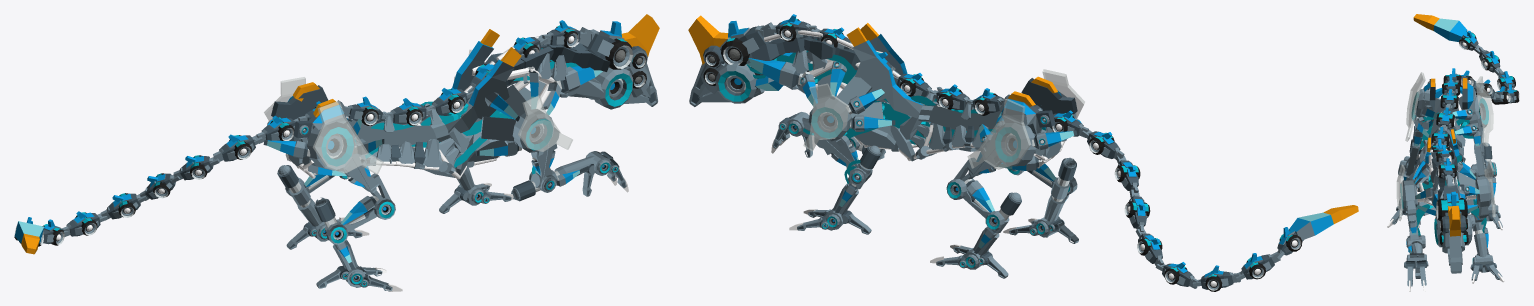
The model's file is MechQuadruped by 3Donimus - 5x1hRpbmdfo.glb.
3 renders of one model, left to right at view 1: azimuth 30°, elevation 25°; view 2: azimuth 150°, elevation 25°; view 3: azimuth 270°, elevation 25°, orthographic. The views are drawn at different scales.
Parts seen in each view (by area): view 1: Node; view 2: Node; view 3: Node.
Boxes of the visible parts, box(x1,y1,x2,y2) form: Node: box(14, 14, 659, 291); Node: box(688, 14, 1358, 291); Node: box(1387, 14, 1519, 291).
Bounding box in the file's own units: 2.06 × 0.5929 × 0.4862.
